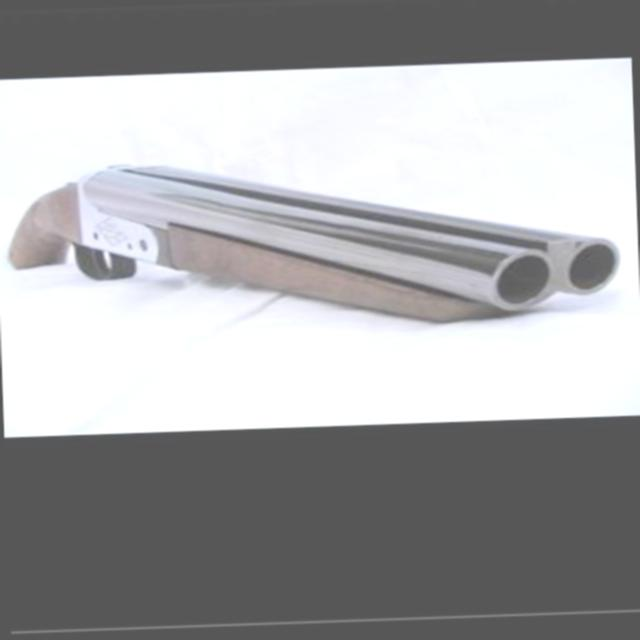shotgun: (0, 149, 610, 355)
